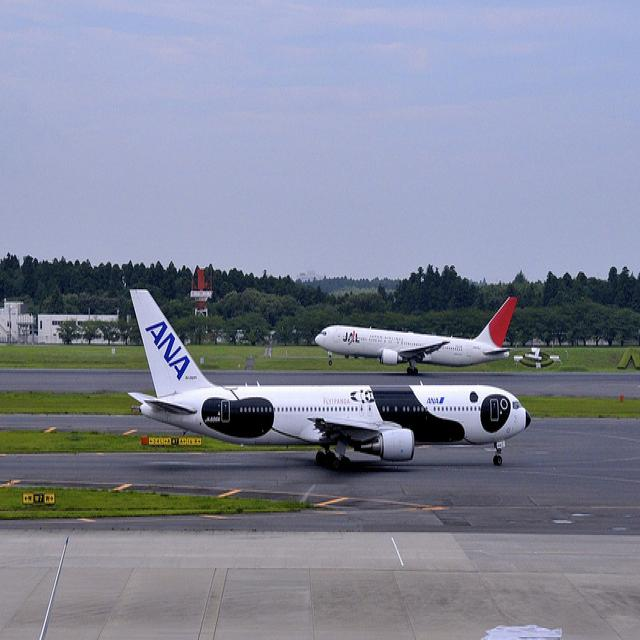airplane: (124, 284, 534, 472), (313, 294, 520, 377)
